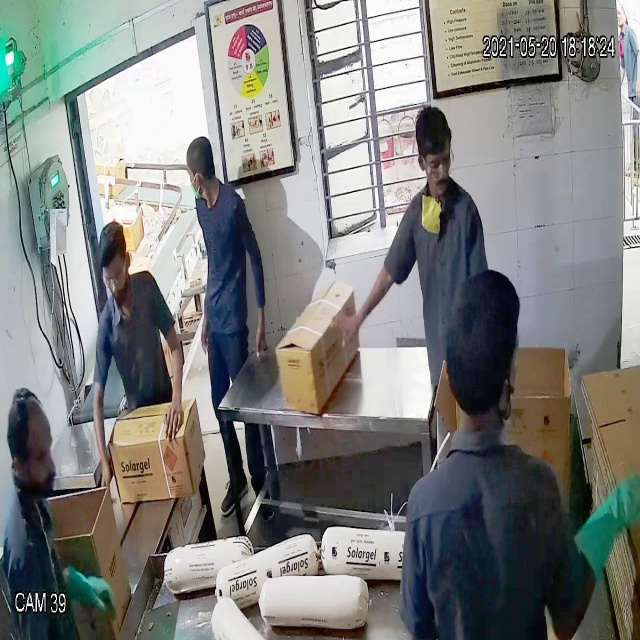Gafas: (417, 152, 457, 179), (102, 266, 127, 290)
Sin_gafas: (9, 443, 58, 482)
